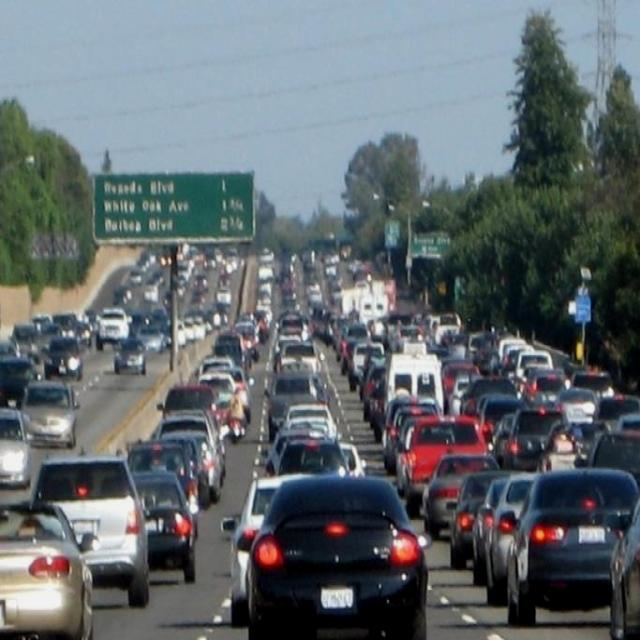Carro Branco: (230, 479, 275, 608)
Carro Prata: (38, 458, 149, 606), (492, 484, 528, 605)
Carro Preto: (251, 478, 434, 638), (513, 474, 638, 608), (135, 469, 188, 590), (606, 492, 640, 638)
